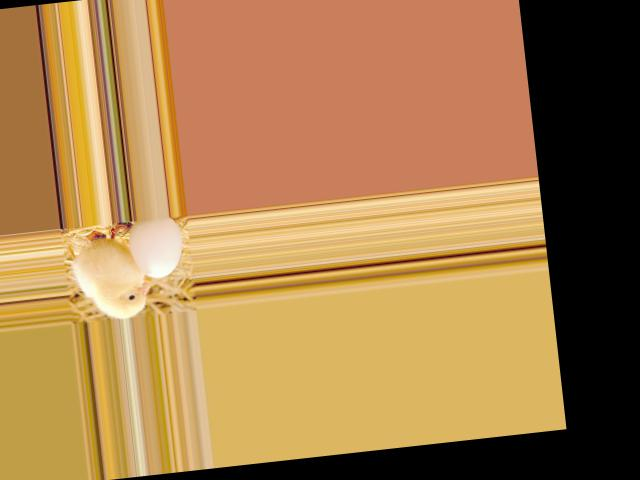egg: (126, 215, 185, 280)
